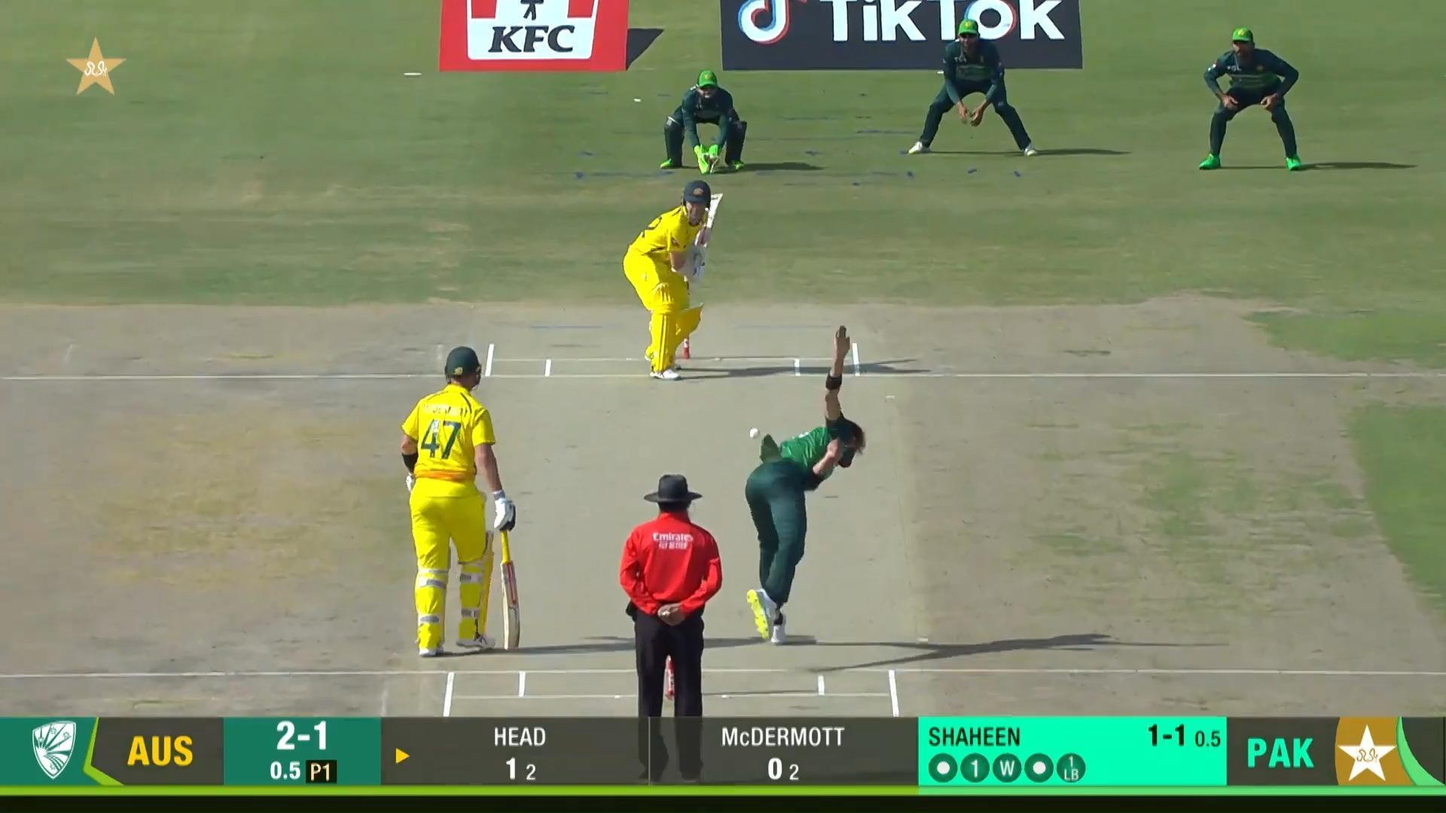BM 1: (622, 180, 725, 383)
BO: (743, 324, 867, 647)
